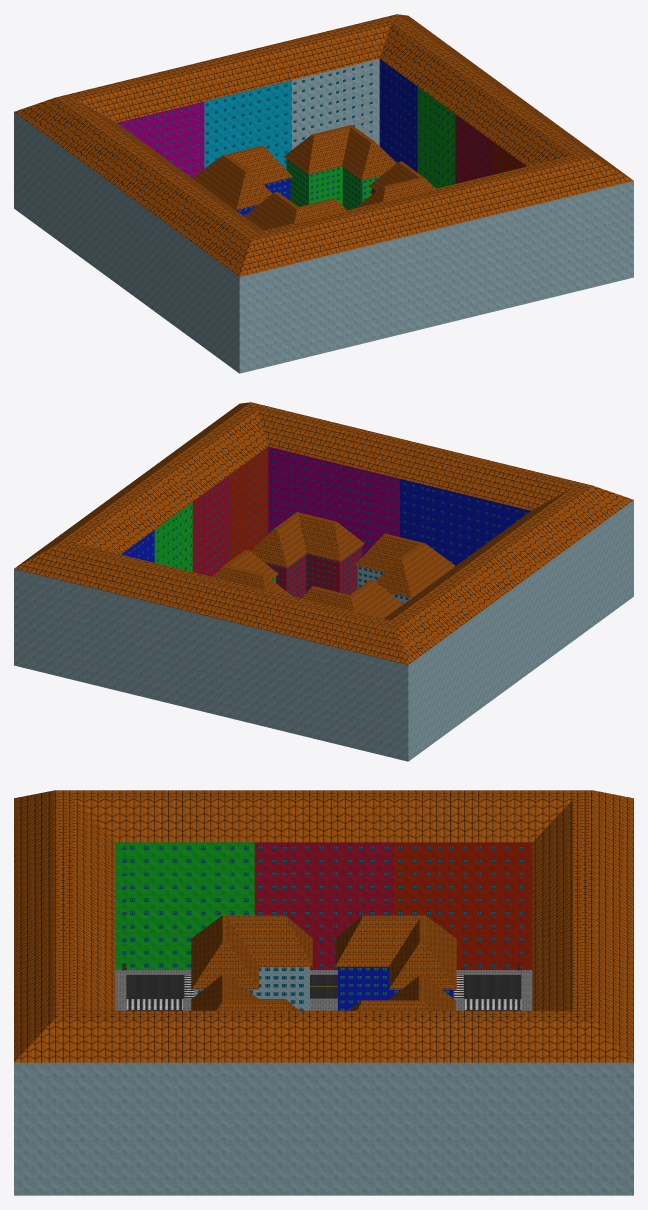
Rendered from city.glb.
The picture shows the model from 3 angles, top to bottom: view 1: azimuth 30°, elevation 25°; view 2: azimuth 150°, elevation 25°; view 3: azimuth 270°, elevation 25°; orthographic projection. The views are drawn at different scales.
Visible parts, largest first — view 1: wall-col, building-col.002, building-col.001, building-col, building-col.003, Cube.011, Cube.010; view 2: wall-col, building-col.003, building-col, building-col.001, building-col.002; view 3: wall-col, building-col.001, building-col, asphalt-col, asphalt-col.001, building-col.003, building-col.002, Cube.004, Cube.008, Cube.006, Cube.005, Cube.007 (+1 smaller).
Boxes of the visible parts, x1=… form: wall-col: x1=14, y1=14, x2=633, y2=373; building-col.002: x1=284, y1=125, x2=396, y2=210; building-col.001: x1=192, y1=145, x2=292, y2=217; building-col: x1=245, y1=191, x2=346, y2=230; building-col.003: x1=355, y1=161, x2=435, y2=208; Cube.011: x1=257, y1=73, x2=331, y2=163; Cube.010: x1=170, y1=94, x2=244, y2=176; wall-col: x1=14, y1=402, x2=633, y2=761; building-col.003: x1=251, y1=512, x2=364, y2=598; building-col: x1=355, y1=533, x2=455, y2=605; building-col.001: x1=301, y1=579, x2=402, y2=618; building-col.002: x1=212, y1=549, x2=292, y2=596; wall-col: x1=14, y1=790, x2=633, y2=1195; building-col.001: x1=335, y1=915, x2=456, y2=1010; building-col: x1=191, y1=915, x2=312, y2=1010; asphalt-col: x1=126, y1=975, x2=521, y2=1010; asphalt-col.001: x1=115, y1=970, x2=532, y2=1010; building-col.003: x1=191, y1=974, x2=298, y2=1010; building-col.002: x1=349, y1=976, x2=455, y2=1010; Cube.004: x1=130, y1=846, x2=191, y2=967; Cube.008: x1=449, y1=846, x2=509, y2=967; Cube.006: x1=291, y1=846, x2=351, y2=967; Cube.005: x1=215, y1=846, x2=276, y2=914; Cube.007: x1=370, y1=846, x2=430, y2=914.
Bounding box in the file's own units: 222 × 62.02 × 220.
25 materials, 25 textured.
